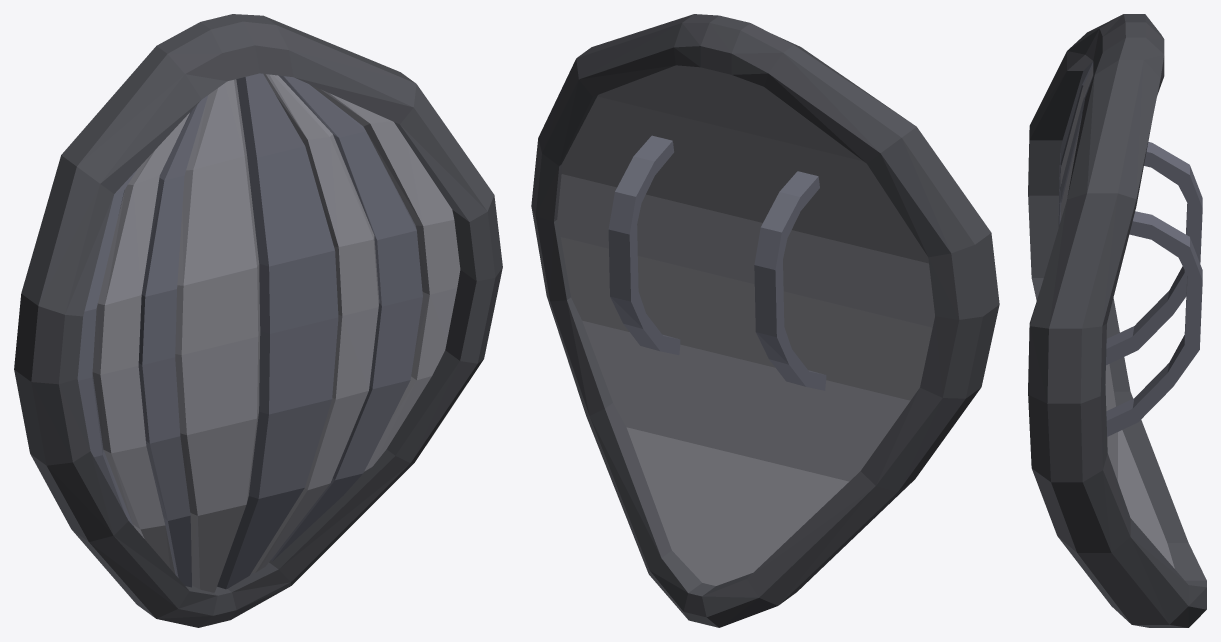
The model's file is _shield_8.fbx.
The picture shows the model from 3 angles, left to right: view 1: azimuth 30°, elevation 25°; view 2: azimuth 150°, elevation 25°; view 3: azimuth 270°, elevation 25°; orthographic projection. The views are drawn at different scales.
Parts seen in each view (by area): view 1: shield_8; view 2: shield_8; view 3: shield_8.
Boxes of the visible parts, <box> form: shield_8: <box>14,14,502,627</box>; shield_8: <box>531,14,999,627</box>; shield_8: <box>1028,14,1206,627</box>.
Size of the model in its own units: 64.44 by 79.32 by 21.77.
